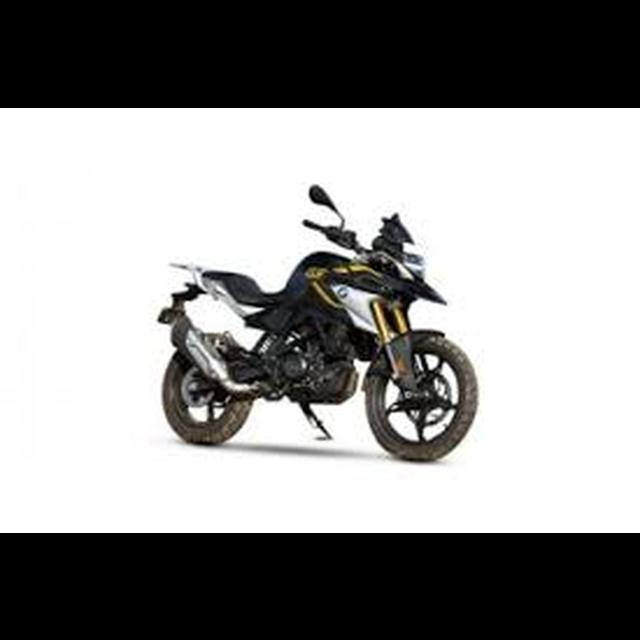motorcycle: (153, 181, 483, 466)
